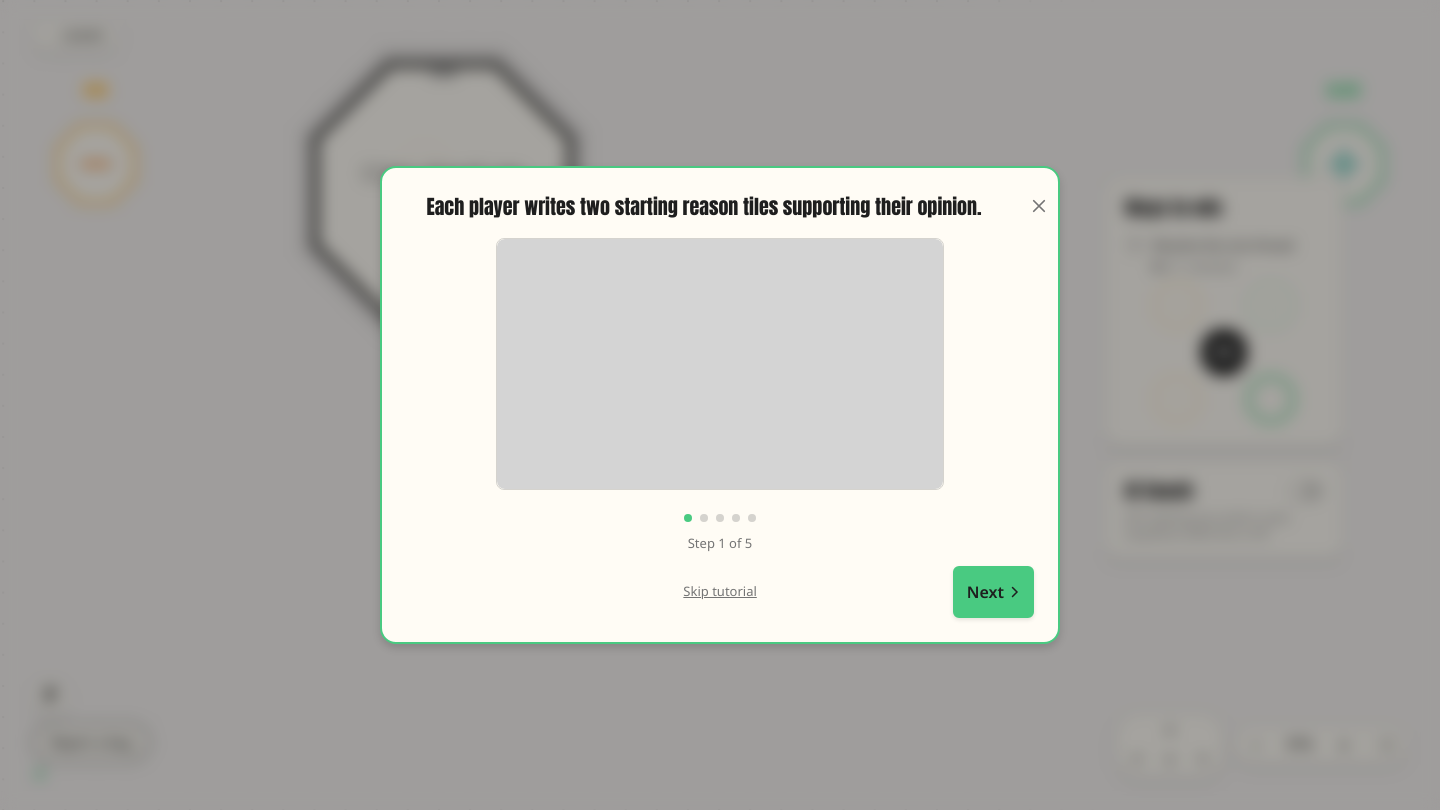
Test: LiveBoard: the pencil on your own tile › opens the card already editing, with no separate Edit row to click first
Click the button "Skip tutorial" at (720, 592), box x1=683 y1=582 x2=757 y2=602
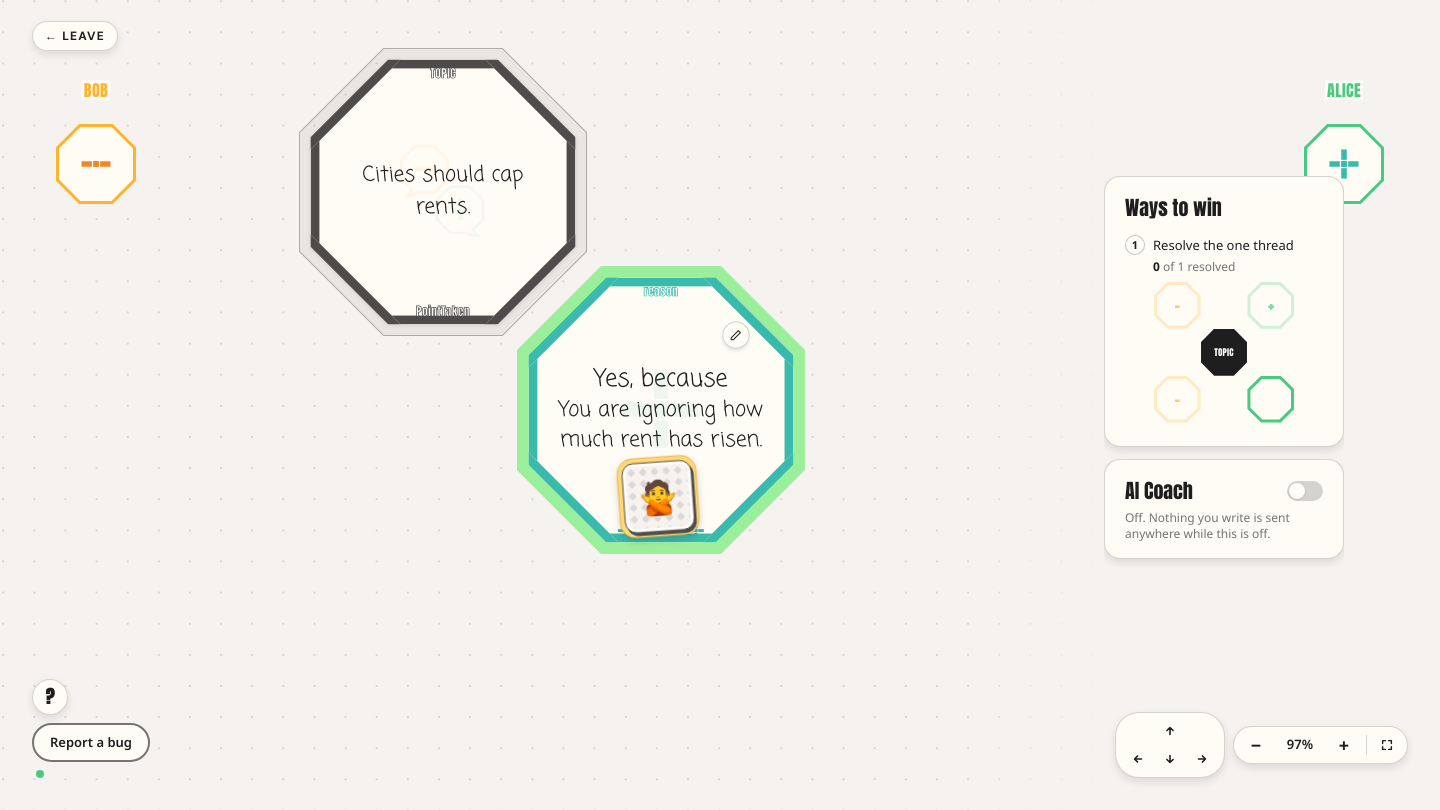
Click the button named "Edit this reason" at (736, 335), box x1=722 y1=322 x2=749 y2=349
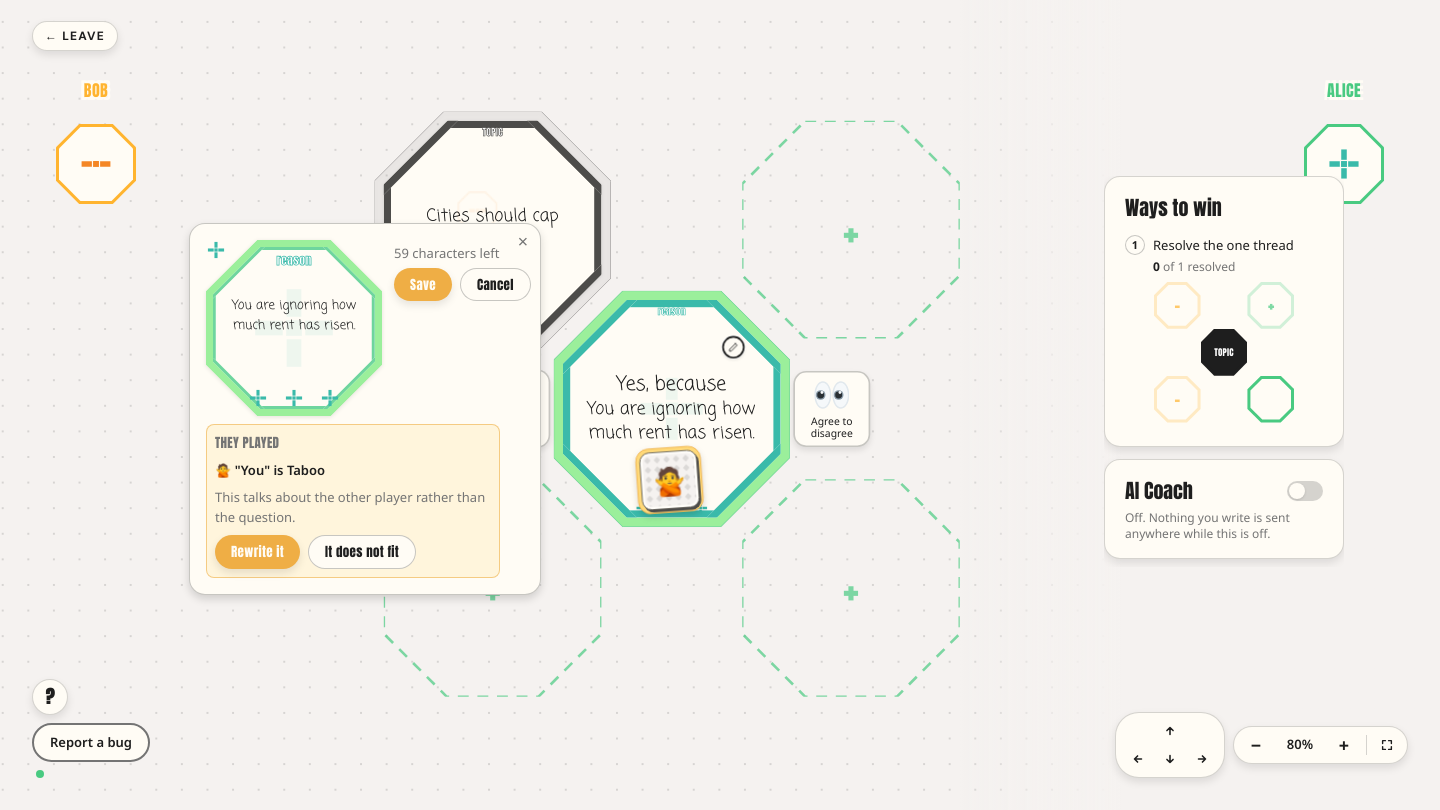
Expected: the text box showing "You are ignoring how much rent has risen." is shown, x1=230 y1=296 x2=358 y2=360
Expected: the button "Save" is shown, x1=394 y1=268 x2=452 y2=301
